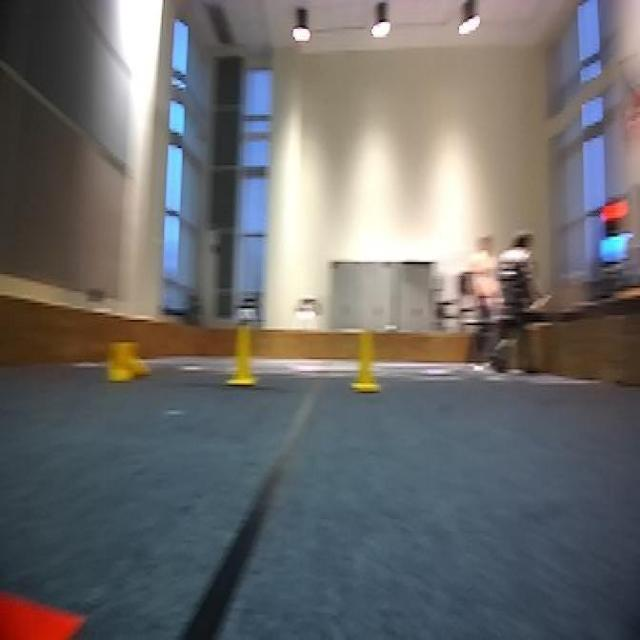frc_cone: (348, 328, 386, 396), (226, 322, 259, 388), (108, 339, 148, 383)
